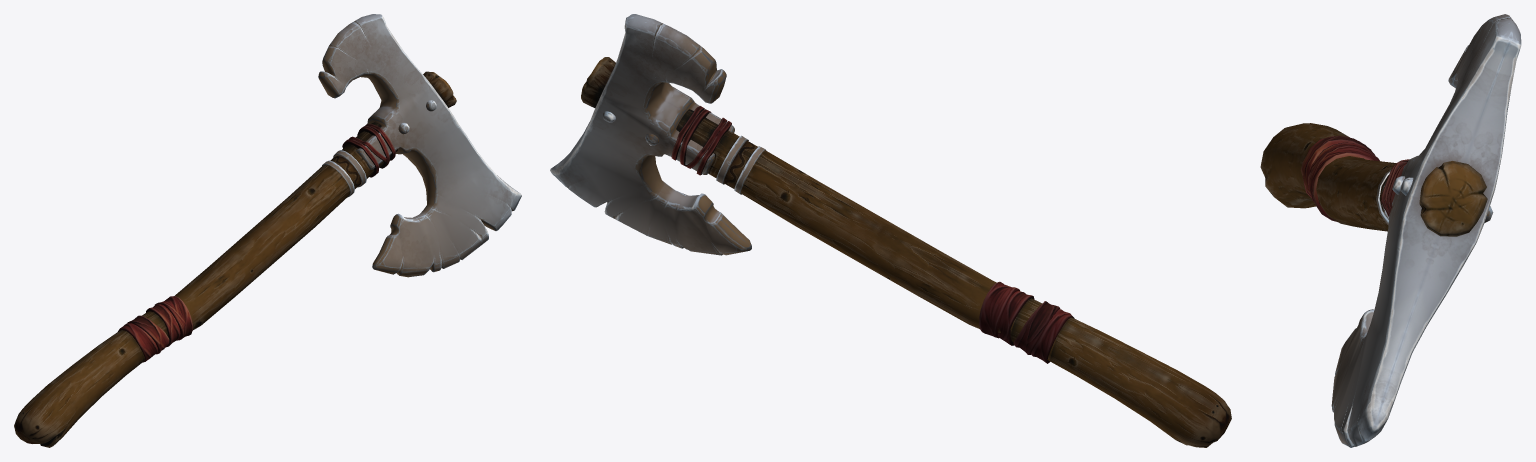
File: stylized_axe.glb
3 views of the same model, side by side, from view 1: azimuth 30°, elevation 25°; view 2: azimuth 150°, elevation 25°; view 3: azimuth 270°, elevation 25° (orthographic). The views are drawn at different scales.
Visible parts, largest first — view 1: Axe; view 2: Axe; view 3: Axe.
Part boxes in pixels (x1,y1,x2,y2): Axe: (14, 14, 521, 447); Axe: (550, 14, 1231, 447); Axe: (1260, 14, 1521, 447).
Size of the model in its own units: 0.9448 by 0.5053 by 0.2364.
1 material, 1 textured.
